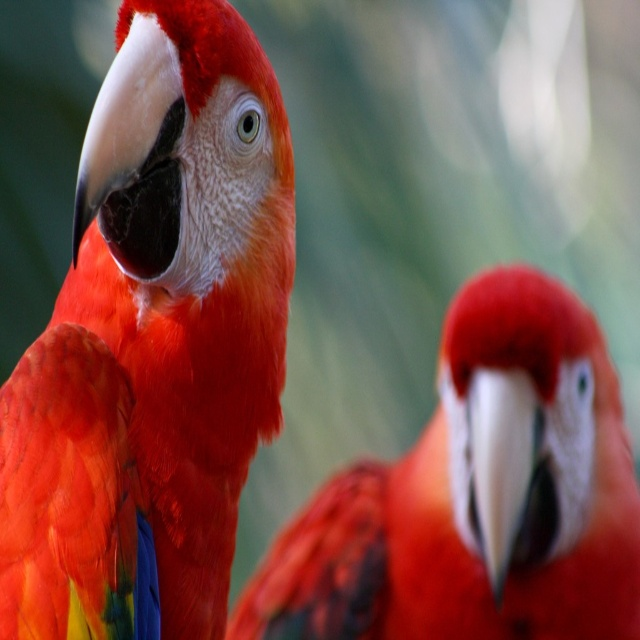Parrot: (0, 0, 296, 640), (227, 264, 640, 640)
